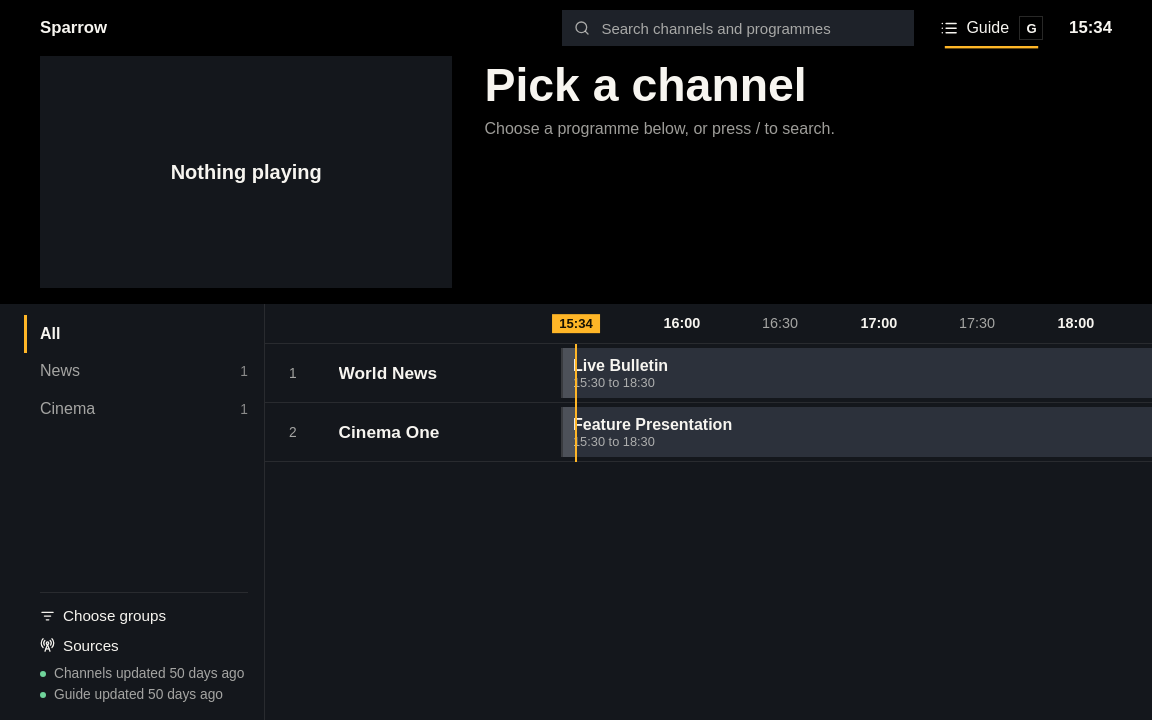
it: CatalogBrowser shell › excludes a Channel Group from the board and All-window rows
Check: the button with aria-label "Tune World News" is shown, box x1=339 y1=344 x2=545 y2=402
What coordinates should you click on to do the following:
click the button "Choose groups"
I would click on:
 (144, 612)
Its box is x1=40 y1=592 x2=248 y2=633.
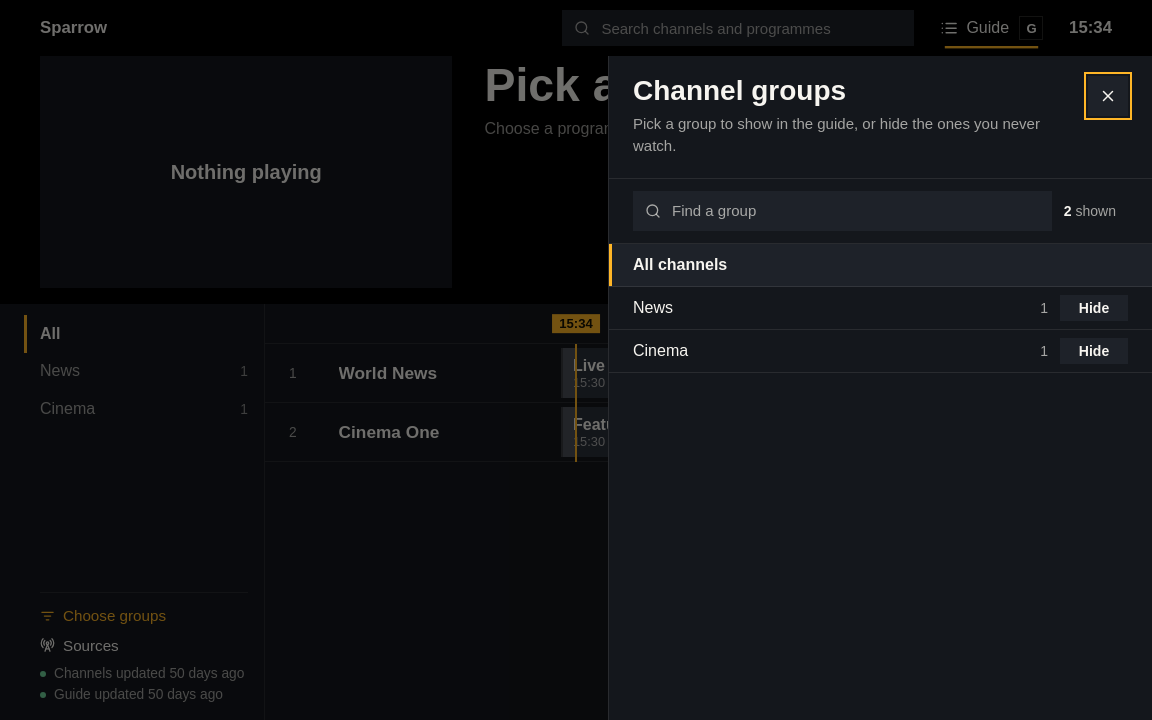
What coordinates should you click on to do the following:
click the button with aria-label "Hide News"
I would click on:
 (1094, 308)
Its box is x1=1060 y1=295 x2=1128 y2=321.
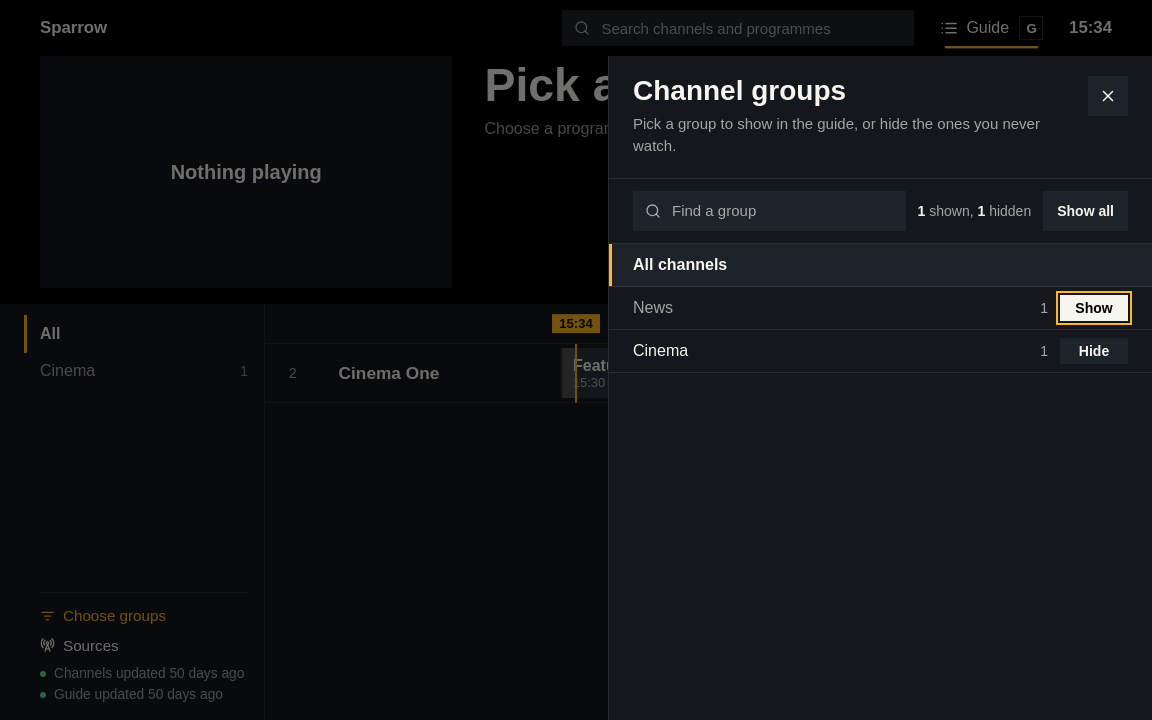
What coordinates should you click on to do the following:
click the button named "Close channel groups"
I would click on:
 (1108, 96)
Its box is x1=1088 y1=76 x2=1128 y2=116.
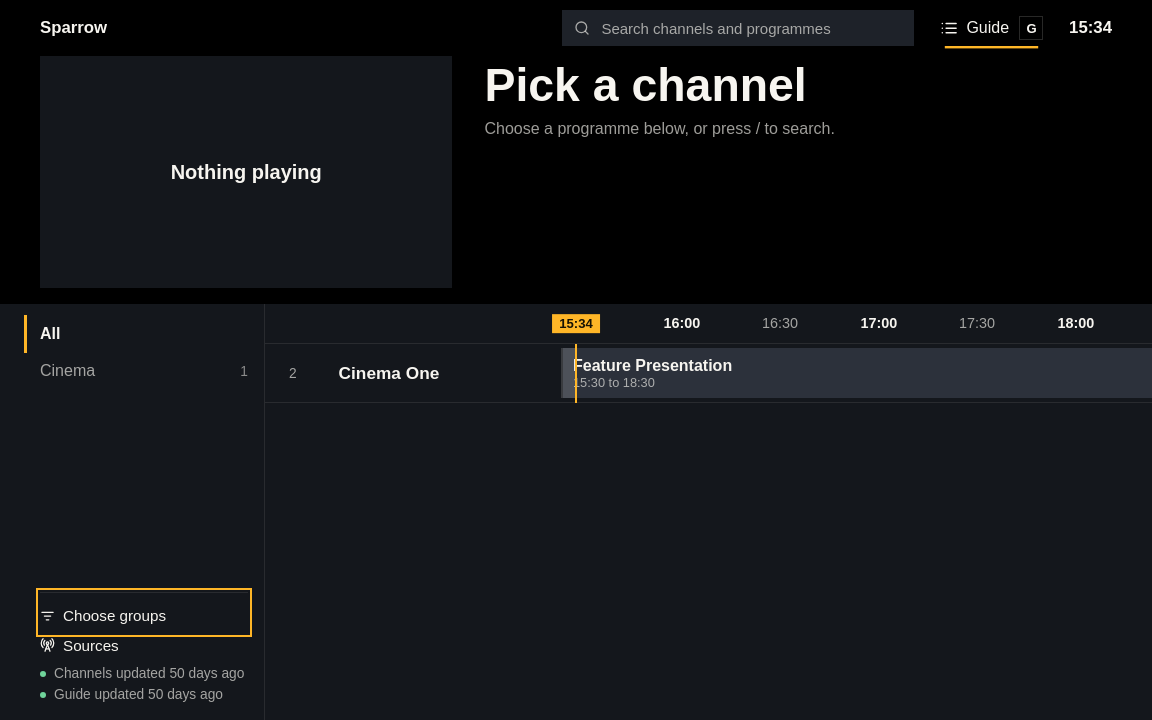
Check: the button with aria-label "Tune Cinema One" is shown, box x1=339 y1=344 x2=545 y2=402
Check: the button "News" is gone
